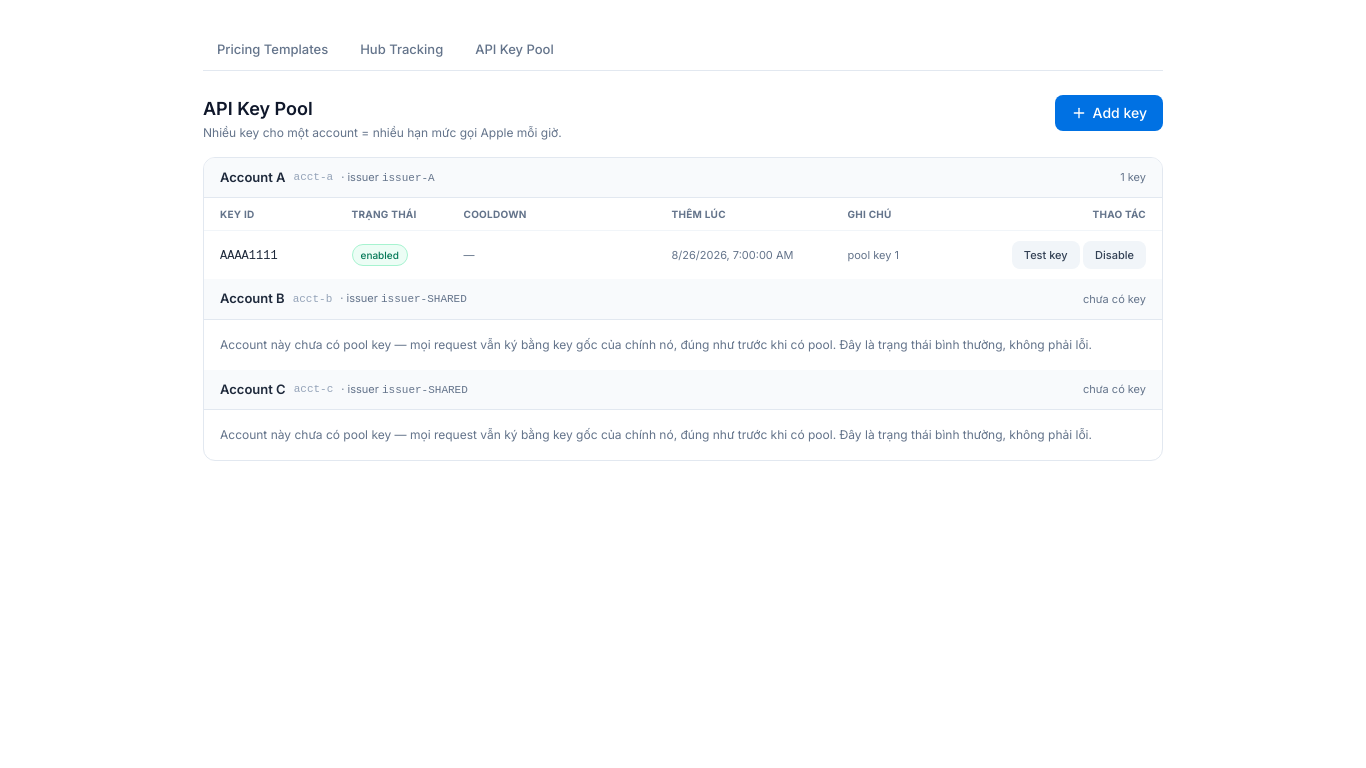
Test case: ⚠ (c) the account dropdown exposes the issuer › ⚠ warns when the chosen account shares a team with another
expect the row with test id "key-row-AAAA1111" is shown: met, box [204,230,1162,279]
Click the button with test id "open-add" at (1109, 112), box [1055,94,1163,130]
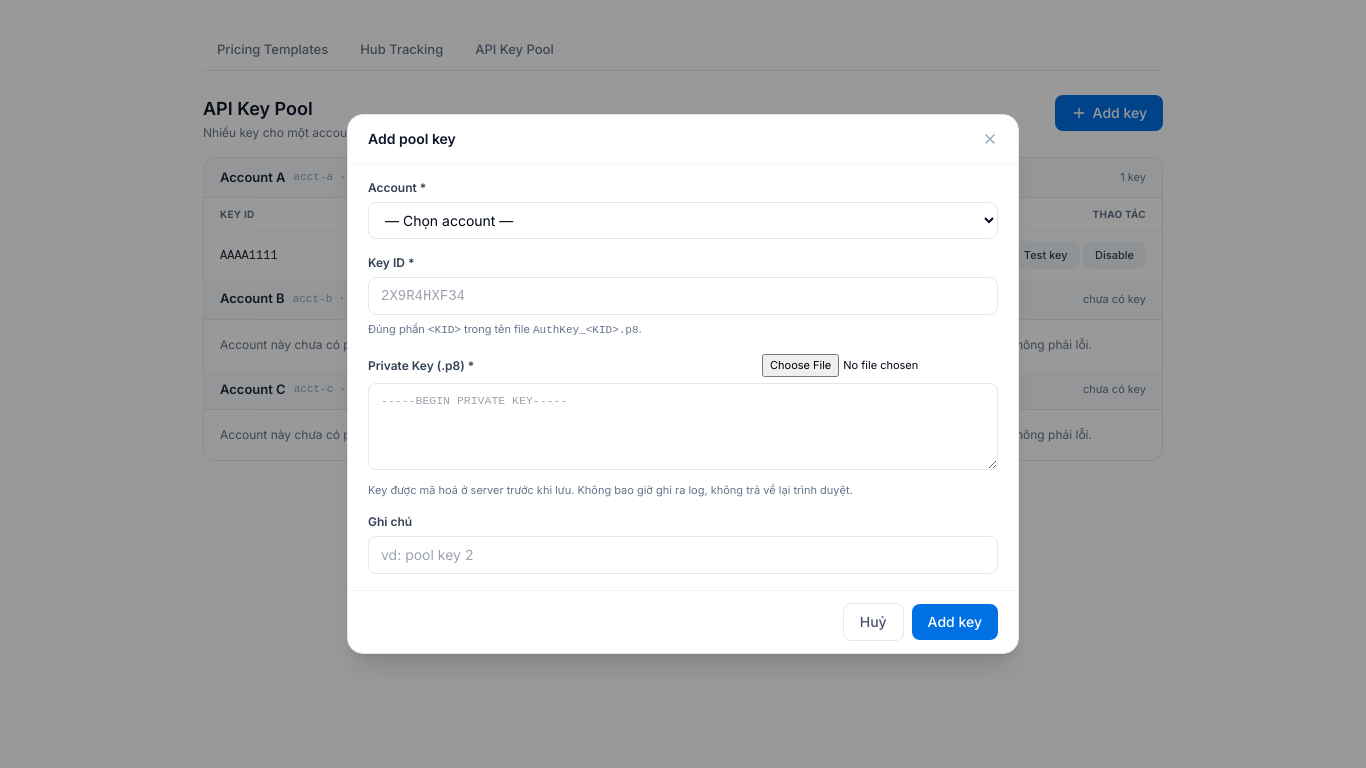
Select "Account B · acct-b · issuer issuer-SHARED" in the dropdown with test id "account-select" at (683, 220), box [368,202,998,239]
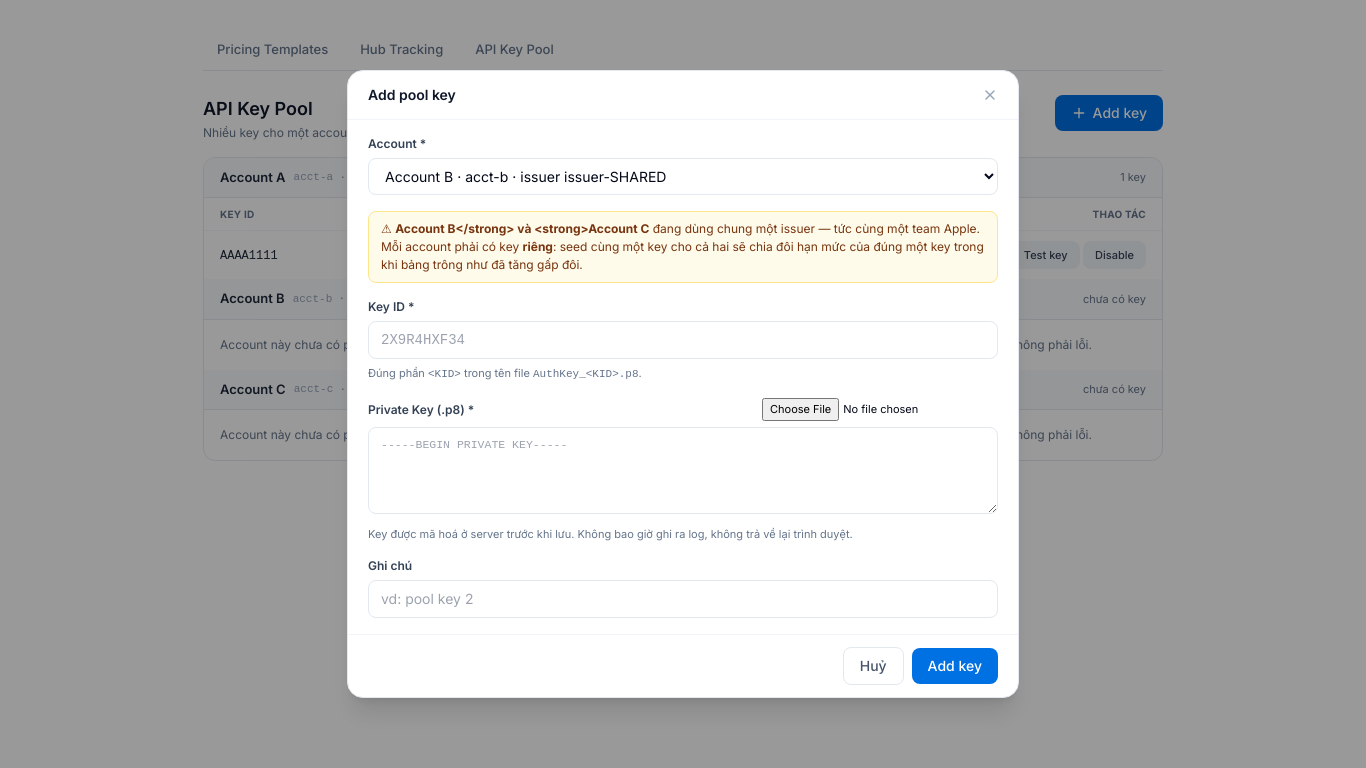
expect the element with test id "shared-issuer-warning" is shown: met, box [368,211,998,283]
